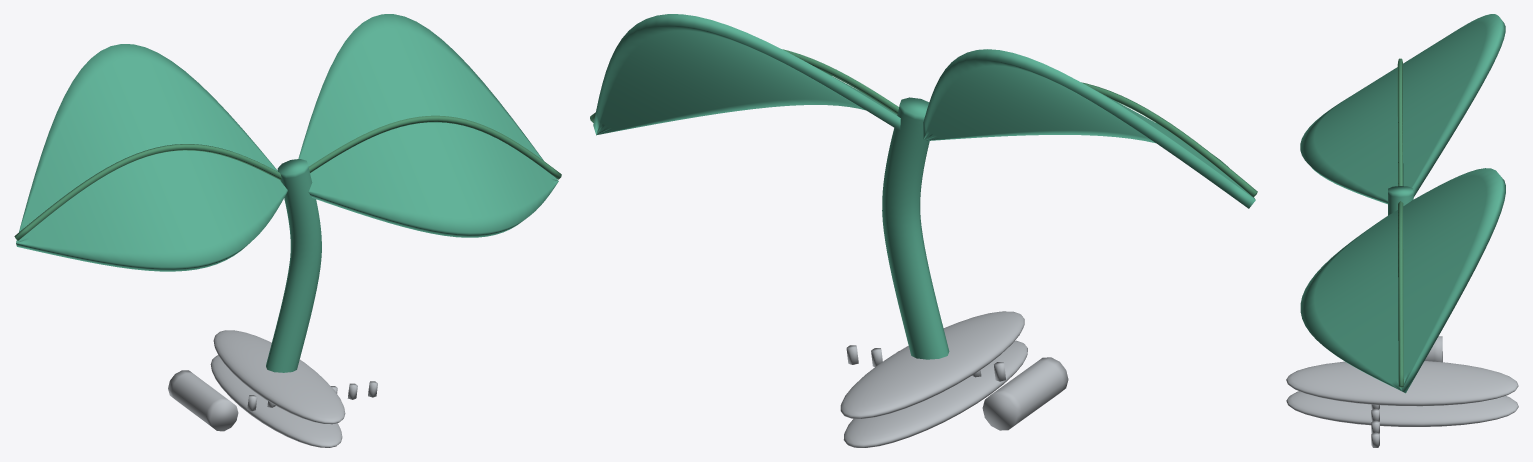
File: Masculine-flow-ears260-sprout.glb
The picture shows the model from 3 angles, left to right: view 1: azimuth 30°, elevation 25°; view 2: azimuth 150°, elevation 25°; view 3: azimuth 270°, elevation 25°; orthographic projection. The views are drawn at different scales.
Parts seen in each view (by area): view 1: 226 extra / Accessory / mint226, 226 extra / Sprout / clip silver235, 226 extra / Sprout / leaf vein235; view 2: 226 extra / Accessory / mint226, 226 extra / Sprout / clip silver235, 226 extra / Sprout / leaf vein235; view 3: 226 extra / Accessory / mint226, 226 extra / Sprout / clip silver235, 226 extra / Sprout / leaf vein235.
Part boxes in pixels (box(x1,y1,x2,y2)): 226 extra / Accessory / mint226: box(16, 14, 558, 372); 226 extra / Sprout / clip silver235: box(168, 330, 377, 447); 226 extra / Sprout / leaf vein235: box(14, 115, 561, 240); 226 extra / Accessory / mint226: box(593, 14, 1255, 359); 226 extra / Sprout / clip silver235: box(840, 311, 1068, 447); 226 extra / Sprout / leaf vein235: box(590, 49, 1257, 197); 226 extra / Accessory / mint226: box(1300, 14, 1505, 393); 226 extra / Sprout / clip silver235: box(1286, 336, 1518, 447); 226 extra / Sprout / leaf vein235: box(1397, 58, 1403, 387).
Size of the model in its own units: 0.2696 by 0.1677 by 0.1039.
